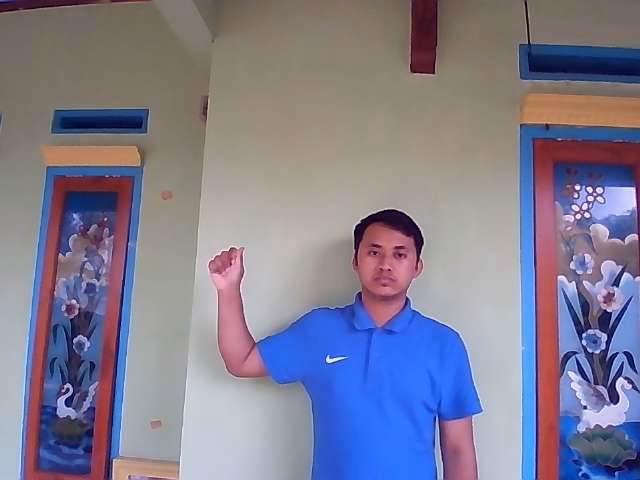A: (207, 246, 245, 290)
